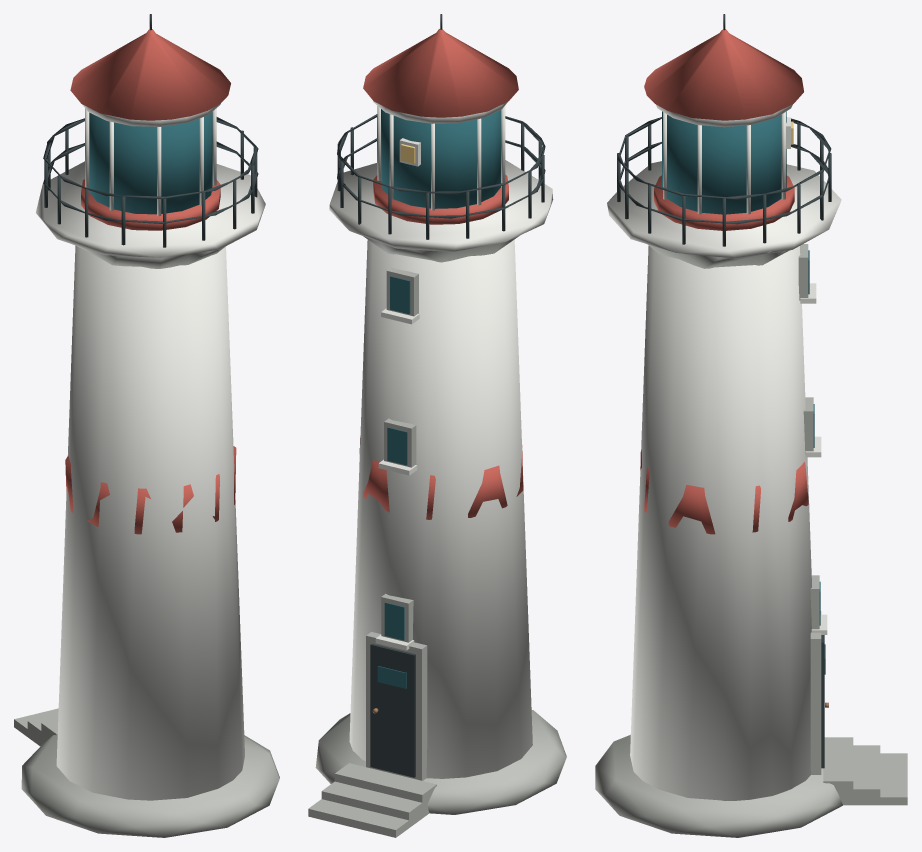
The model's file is ENV_Lighthouse_LOD1.fbx.
The picture shows the model from 3 angles, left to right: view 1: azimuth 30°, elevation 25°; view 2: azimuth 150°, elevation 25°; view 3: azimuth 270°, elevation 25°; orthographic projection. The views are drawn at different scales.
Parts seen in each view (by area): view 1: ENV_Lighthouse_Root_Visual; view 2: ENV_Lighthouse_Root_Visual, BeaconPivot_Visual; view 3: ENV_Lighthouse_Root_Visual.
Boxes of the visible parts, box(x1,y1,x2,y2) form: ENV_Lighthouse_Root_Visual: box(14, 14, 279, 837); ENV_Lighthouse_Root_Visual: box(308, 14, 566, 837); BeaconPivot_Visual: box(399, 138, 420, 166); ENV_Lighthouse_Root_Visual: box(595, 14, 907, 837).
Size of the model in its own units: 260 by 856 by 315.
